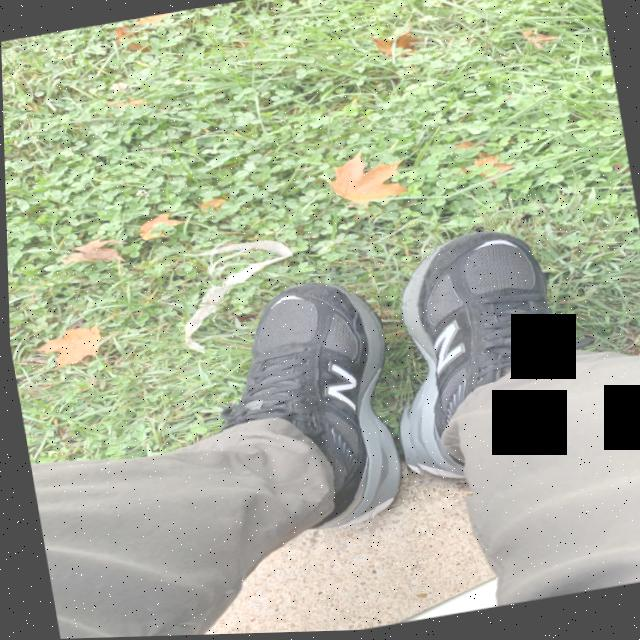shoe: (364, 187, 615, 510), (154, 262, 414, 564)
